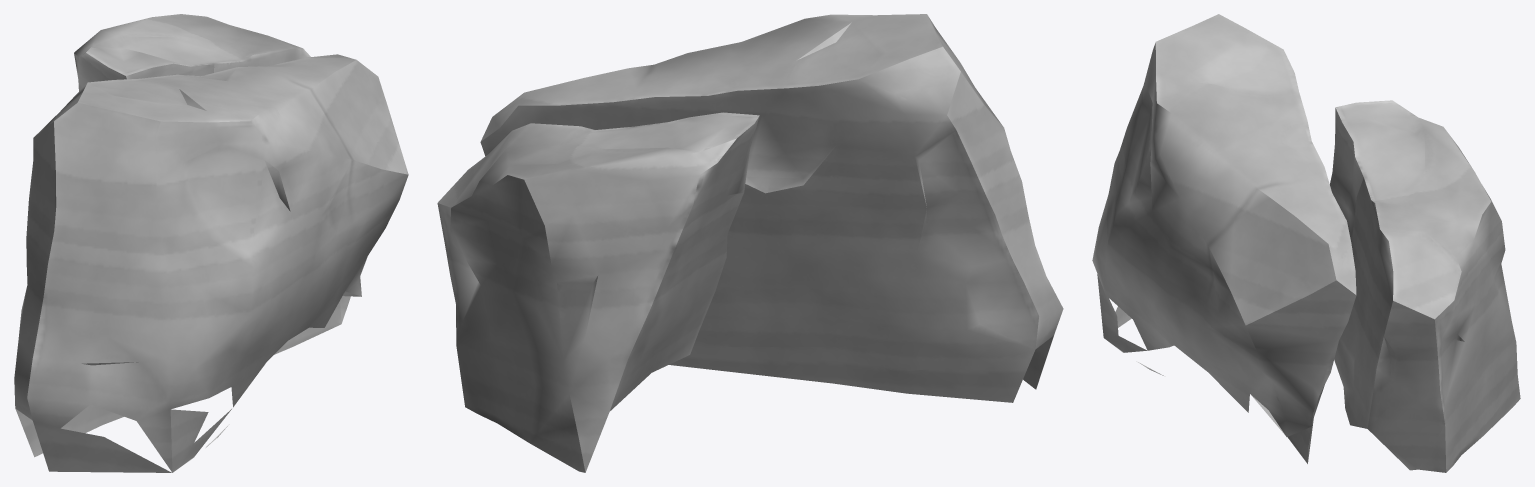
Rendered from sculpted_boulder_04.glb.
3 renders of one model, left to right at view 1: azimuth 30°, elevation 25°; view 2: azimuth 150°, elevation 25°; view 3: azimuth 270°, elevation 25°, orthographic. The views are drawn at different scales.
Visible parts, largest first — view 1: sculpted_boulder_04; view 2: sculpted_boulder_04; view 3: sculpted_boulder_04.
Part boxes in pixels (x1,y1,x2,y2): sculpted_boulder_04: [14, 14, 408, 472]; sculpted_boulder_04: [437, 14, 1063, 472]; sculpted_boulder_04: [1092, 14, 1520, 472].
Bounding box in the file's own units: 1.99 × 1.41 × 1.77.
1 material, 1 textured.
